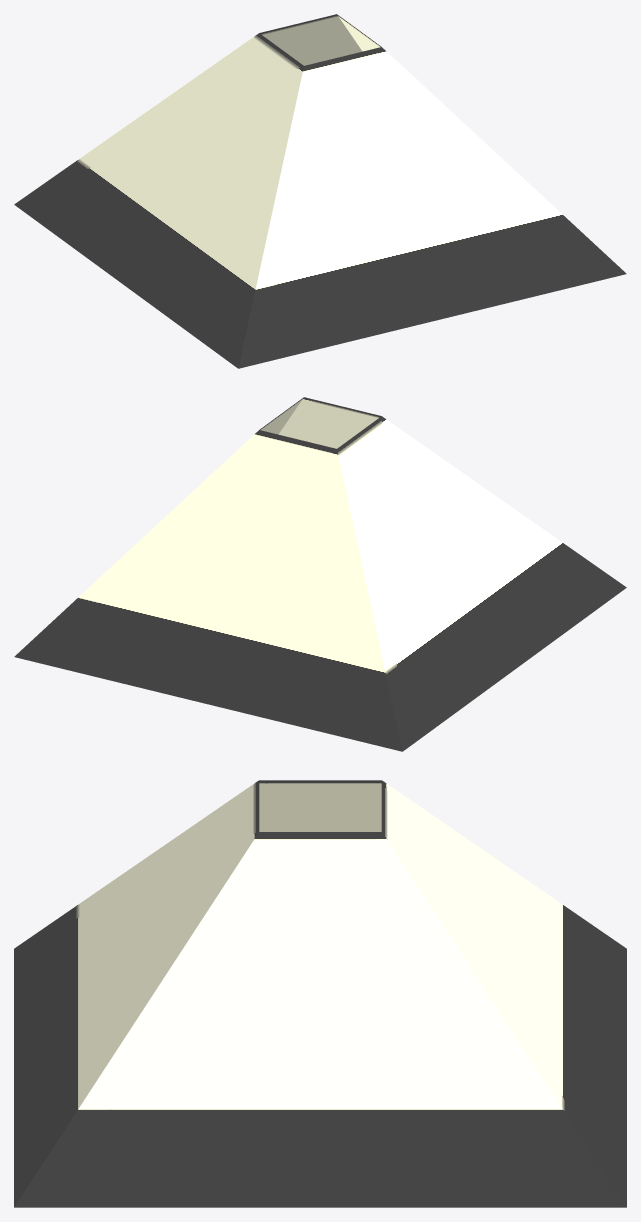
Rendered from ceiling_lamp_1_fake_light_2.glb.
3 renders of one model, top to bottom at view 1: azimuth 30°, elevation 25°; view 2: azimuth 150°, elevation 25°; view 3: azimuth 270°, elevation 25°, orthographic. The views are drawn at different scales.
Visible parts, largest first — view 1: ceiling_lamp_1_fake_light_2; view 2: ceiling_lamp_1_fake_light_2; view 3: ceiling_lamp_1_fake_light_2.
Boxes of the visible parts, x1,y1,x2,y2 form: ceiling_lamp_1_fake_light_2: (14, 14, 626, 368); ceiling_lamp_1_fake_light_2: (14, 397, 626, 751); ceiling_lamp_1_fake_light_2: (14, 780, 626, 1207).
Size of the model in its own units: 5 by 2.45 by 5.
Materials: 1 (1 with a texture image).
